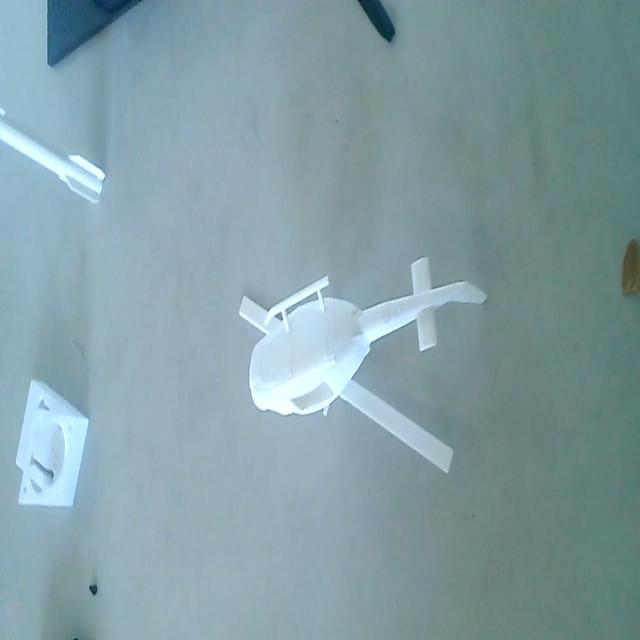Helicopter: (235, 254, 491, 481)
Rocket: (0, 108, 104, 208)
